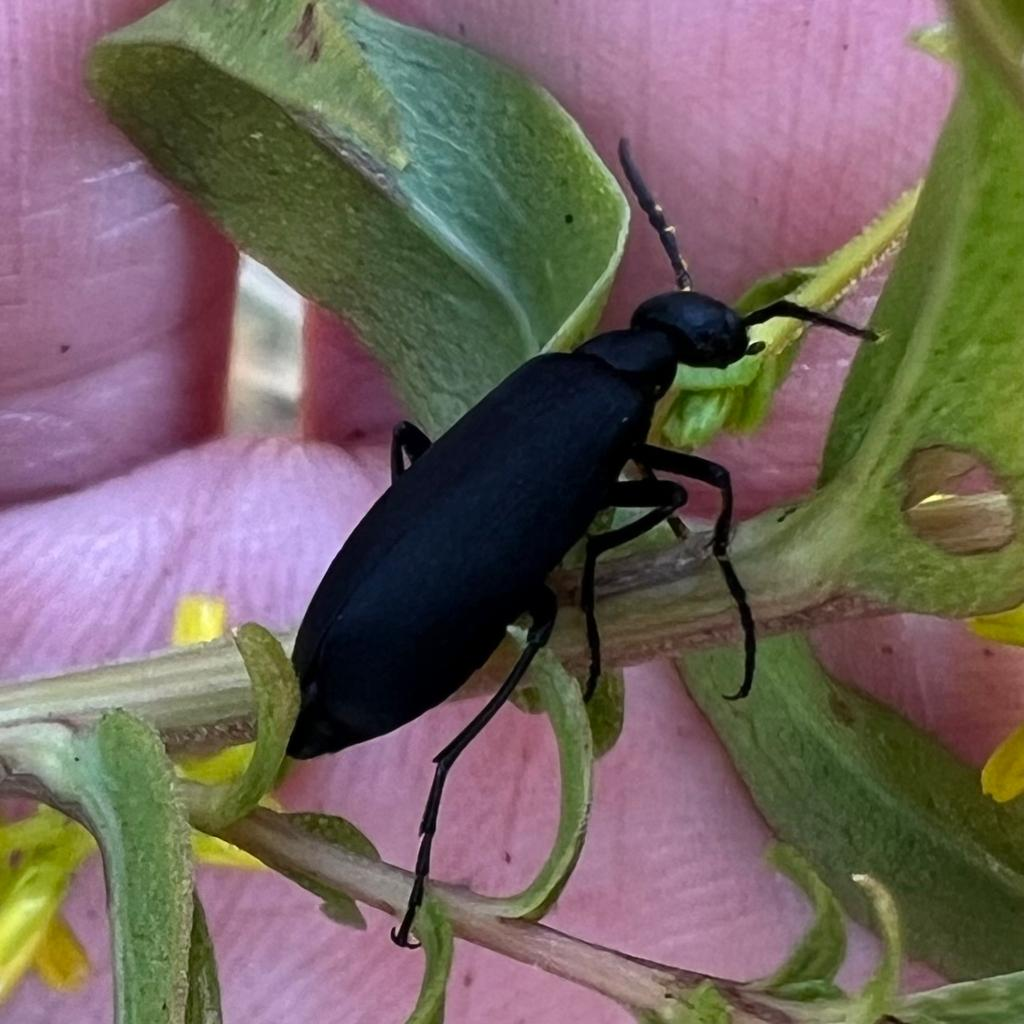blister_beetle: (138, 79, 987, 982)
